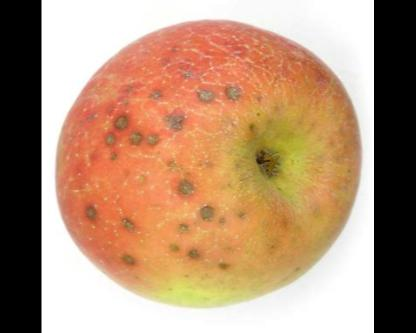defect: (76, 33, 262, 158), (74, 160, 249, 281)
